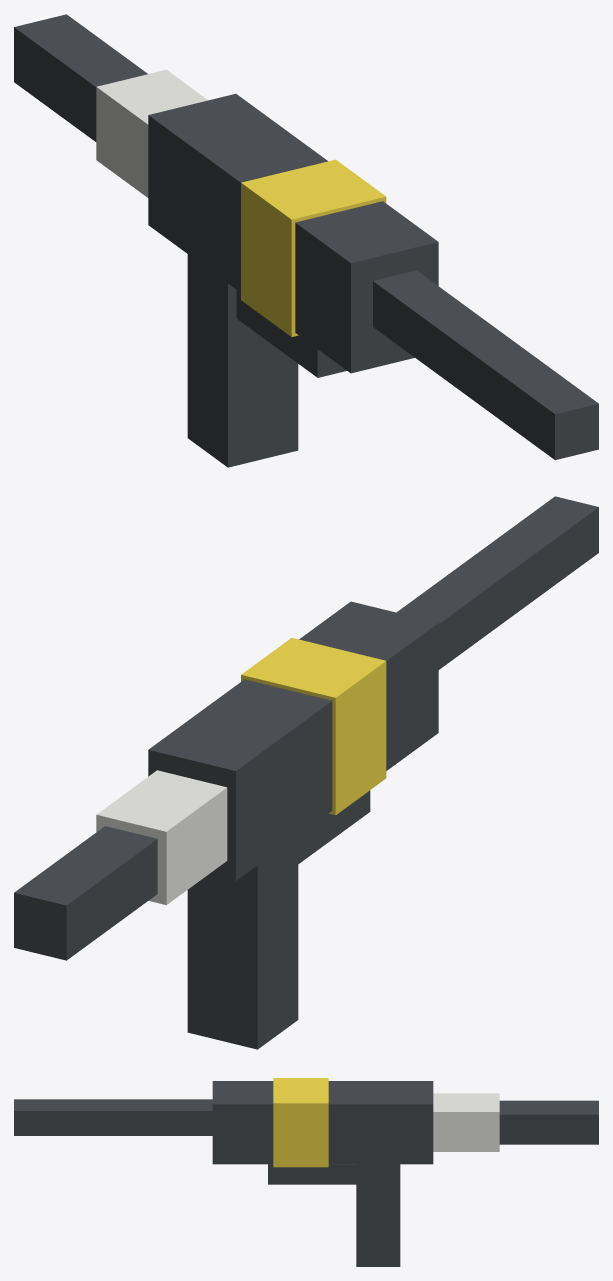
Rendered from fuel-nozzle-diesel.glb.
3 renders of one model, top to bottom at view 1: azimuth 30°, elevation 25°; view 2: azimuth 150°, elevation 25°; view 3: azimuth 270°, elevation 25°, orthographic. The views are drawn at different scales.
Parts seen in each view (by area): view 1: Prop_FuelNozzleDiesel_mesh; view 2: Prop_FuelNozzleDiesel_mesh; view 3: Prop_FuelNozzleDiesel_mesh.
Part boxes in pixels (<box>): Prop_FuelNozzleDiesel_mesh: <box>14,14,598,467</box>; Prop_FuelNozzleDiesel_mesh: <box>14,496,598,1049</box>; Prop_FuelNozzleDiesel_mesh: <box>14,1078,598,1266</box>.
Size of the model in its own units: 0.054 by 0.167 by 0.53.
